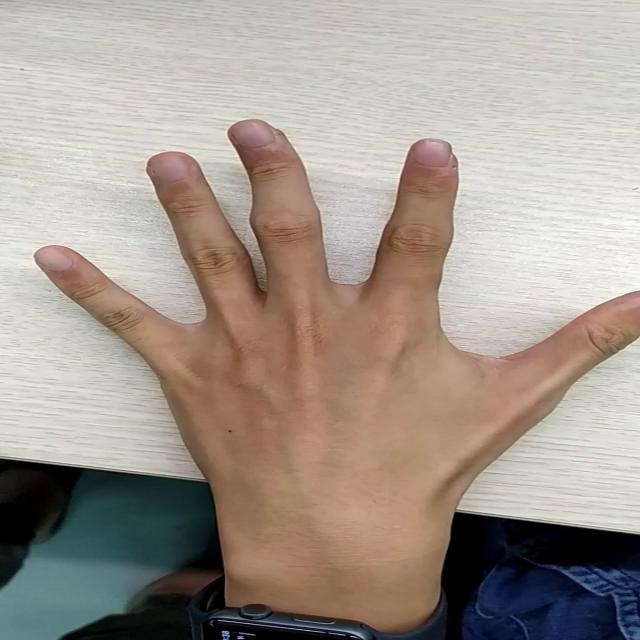hand: (37, 109, 625, 480)
